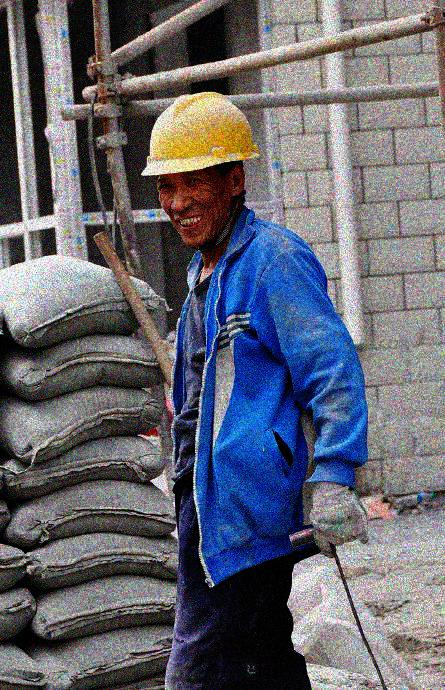helmet: (138, 89, 263, 247)
